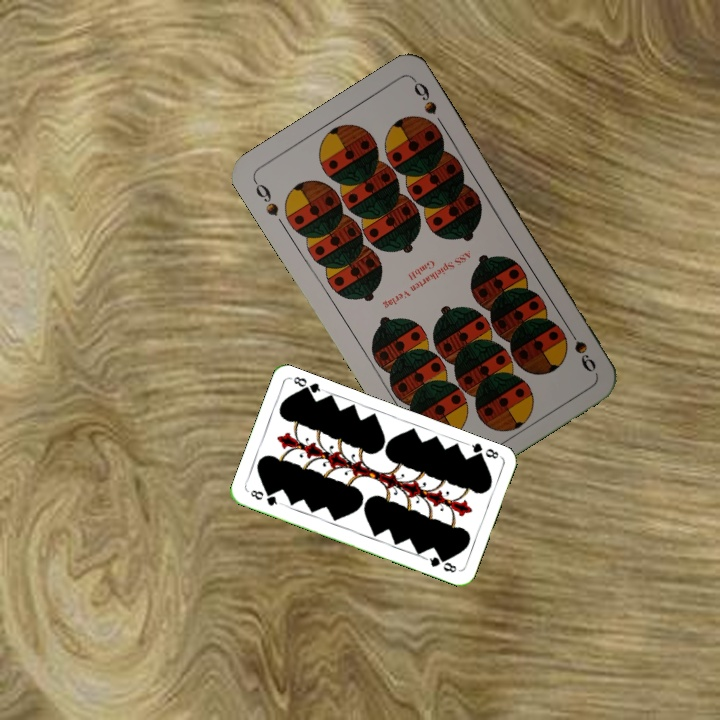G8: (464, 439, 503, 462), (246, 486, 284, 508)
S9: (562, 322, 599, 375), (250, 176, 282, 219)
